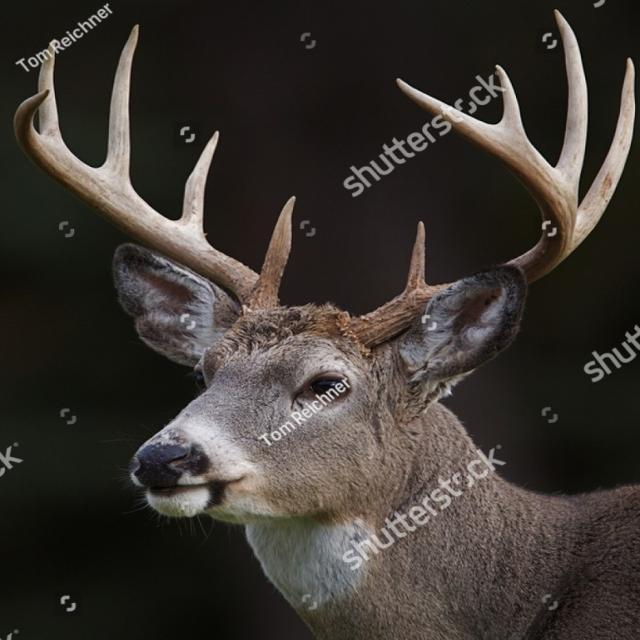E1: (494, 65, 525, 137)
L-G1: (401, 220, 436, 295)
L-G2: (573, 57, 636, 250)
L-G3: (553, 8, 589, 197)
R-G1: (259, 194, 297, 294)
R-G2: (174, 129, 220, 243)
R-G3: (96, 23, 140, 190)
R-G4: (37, 39, 69, 151)
